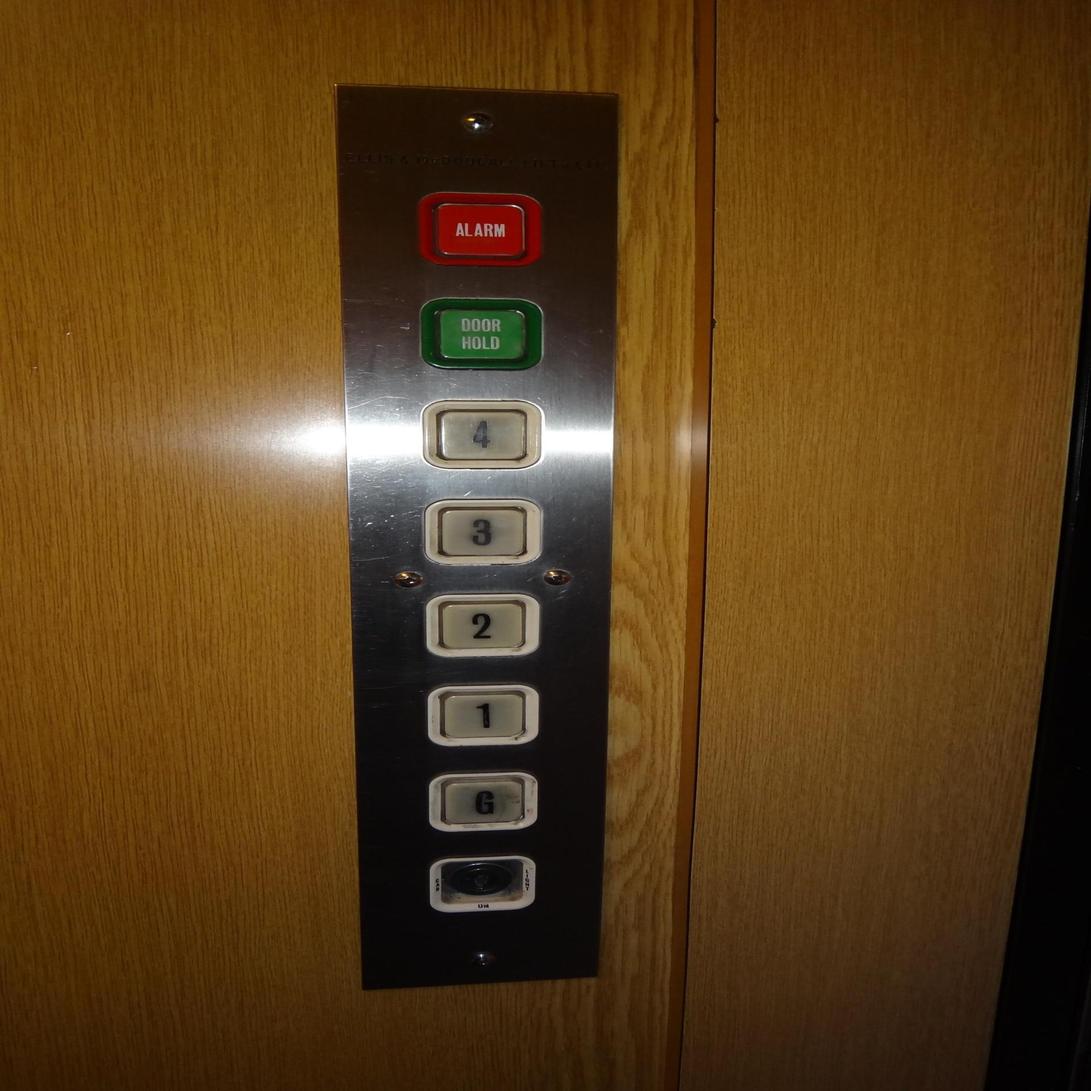1: (424, 679, 544, 751)
2: (420, 589, 544, 660)
3: (420, 492, 544, 569)
4: (421, 397, 545, 473)
G: (427, 767, 543, 836)
alarm: (417, 186, 545, 268)
keyhole: (426, 852, 539, 917)
open: (417, 292, 548, 374)
